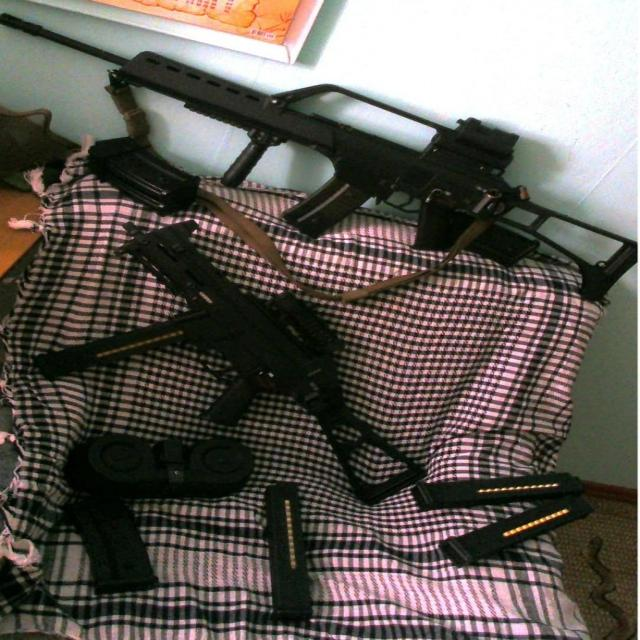firearm: (0, 11, 639, 301), (32, 218, 424, 504)
